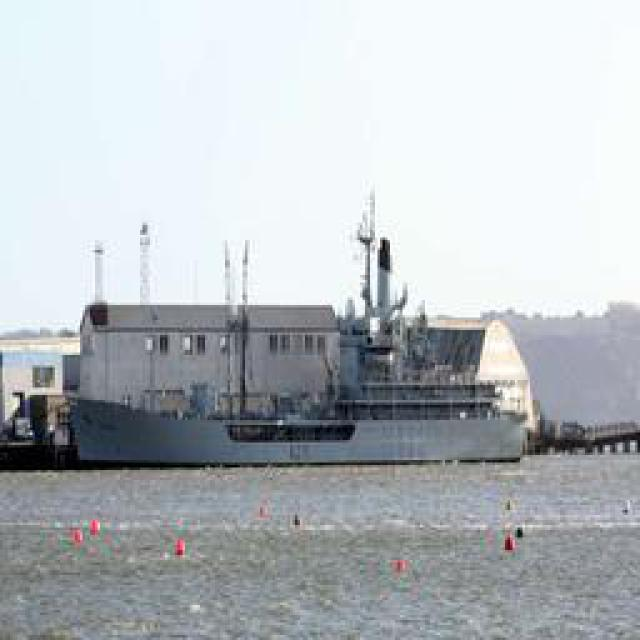Ship: (65, 294, 528, 467)
